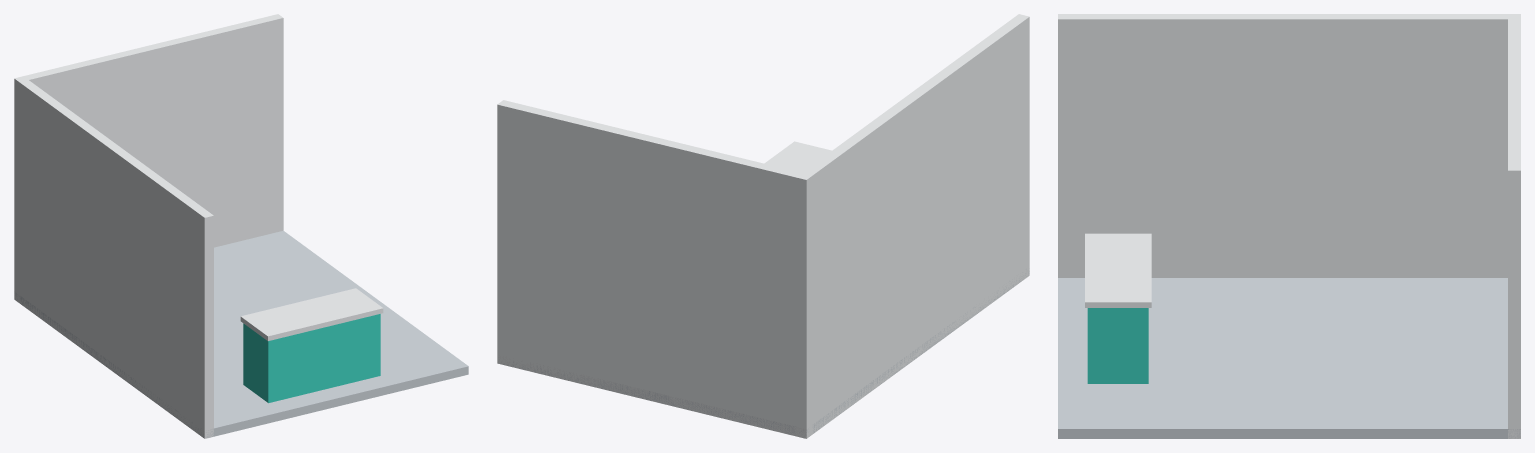
3 views of the same model, side by side, from view 1: azimuth 30°, elevation 25°; view 2: azimuth 150°, elevation 25°; view 3: azimuth 270°, elevation 25° (orthographic). The views are drawn at different scales.
Parts seen in each view (by area): view 1: Exhibition Booth Concept; view 2: Exhibition Booth Concept; view 3: Exhibition Booth Concept.
Part boxes in pixels (x1,y1,x2,y2): Exhibition Booth Concept: (14,14,468,438); Exhibition Booth Concept: (497,14,1029,438); Exhibition Booth Concept: (1058,14,1520,438).
Bounding box in the file's own units: 4 × 3.2 × 5.
